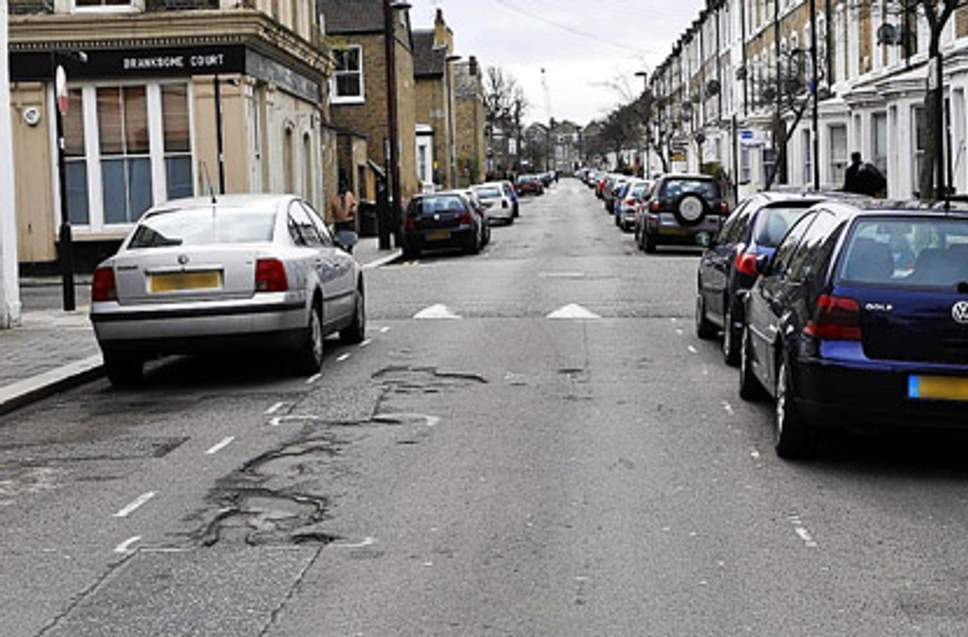pothole: (198, 469, 317, 568), (356, 340, 473, 424), (266, 410, 344, 498), (555, 360, 592, 405)
